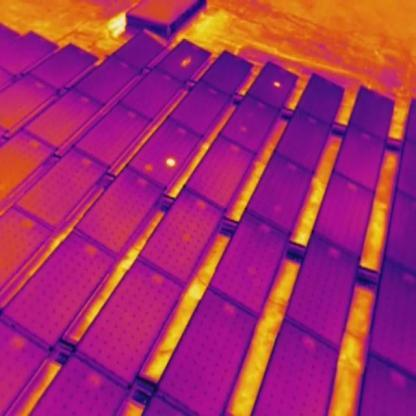anomaly: (179, 54, 194, 69), (164, 157, 178, 169), (272, 80, 282, 91)
